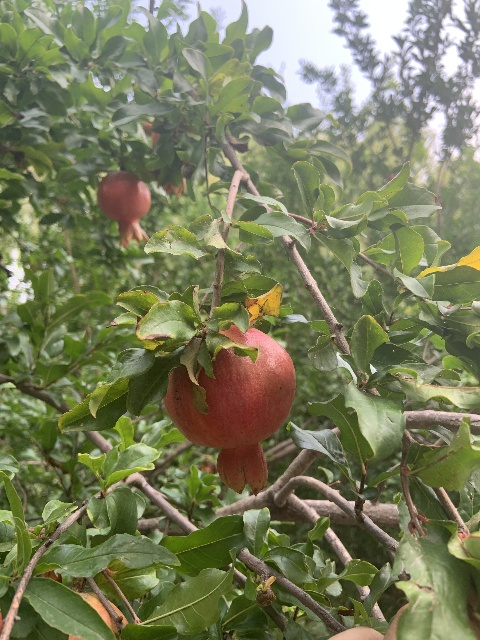ripe: (163, 325, 296, 494), (98, 172, 151, 248)
